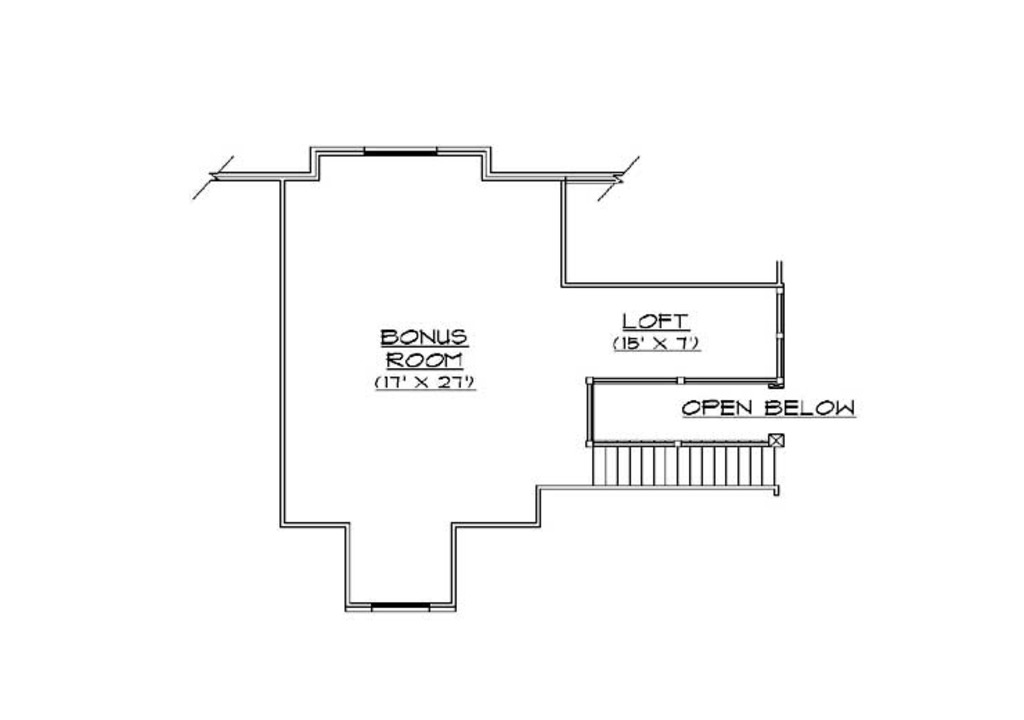stairs: (593, 431, 784, 500)
window: (367, 596, 434, 615), (369, 143, 440, 159)
